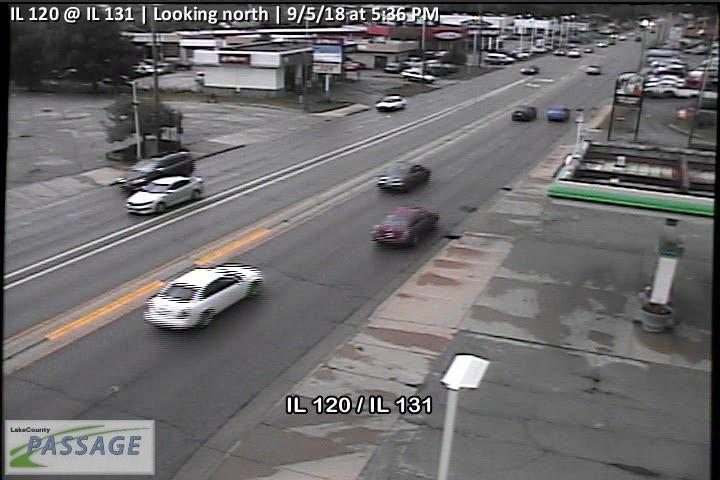SUV: (120, 151, 195, 194)
Sedan: (142, 264, 264, 333), (124, 174, 205, 216), (369, 204, 440, 249), (376, 160, 432, 194), (374, 93, 408, 111), (547, 105, 570, 121), (512, 105, 536, 120), (520, 64, 540, 73)
